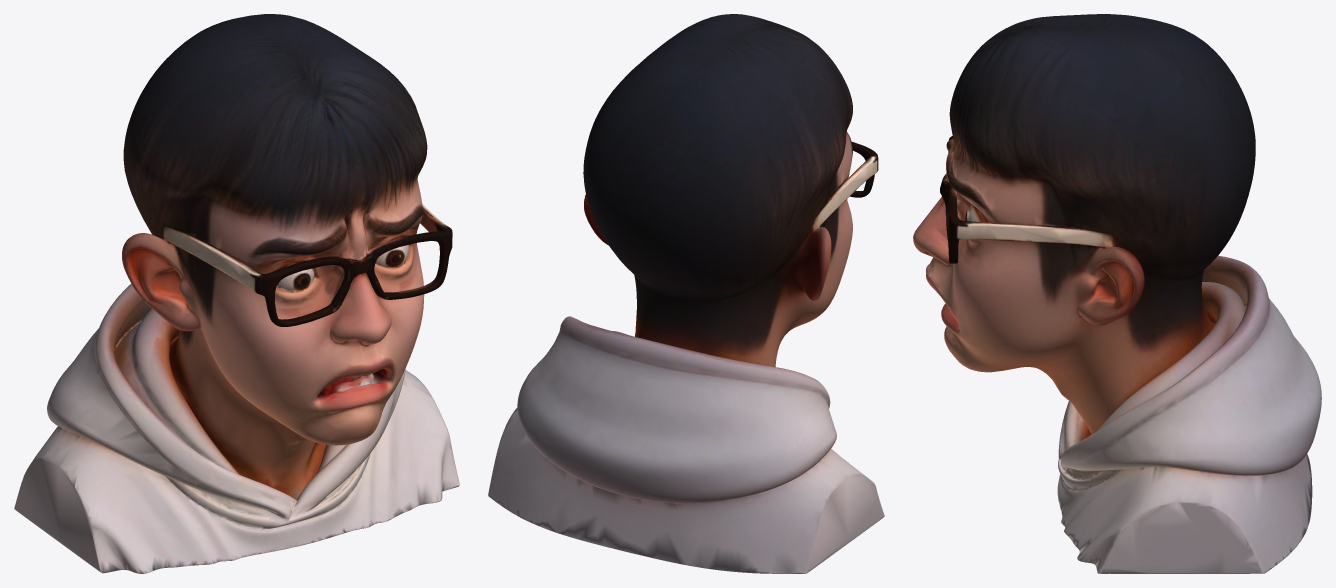
The model's file is mood-05.glb.
The picture shows the model from 3 angles, left to right: view 1: azimuth 30°, elevation 25°; view 2: azimuth 150°, elevation 25°; view 3: azimuth 270°, elevation 25°; orthographic projection. The views are drawn at different scales.
Visible parts, largest first — view 1: node_0; view 2: node_0; view 3: node_0.
Part boxes in pixels (left/top/right/bottom): node_0: left=14, top=14, right=459, bottom=573; node_0: left=488, top=14, right=884, bottom=573; node_0: left=913, top=14, right=1321, bottom=573.
Bounding box in the file's own units: 0.6663 × 0.8681 × 0.6941.
Materials: 1 (1 with a texture image).
